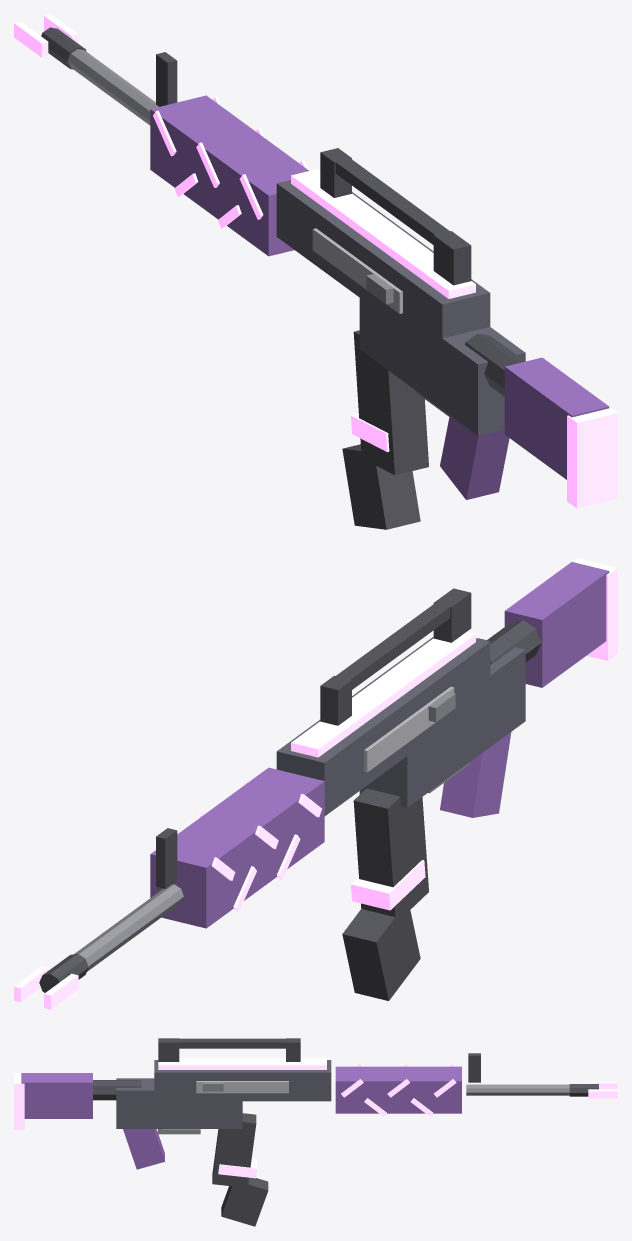
File: rifle_mythic.glb
3 renders of one model, top to bottom at view 1: azimuth 30°, elevation 25°; view 2: azimuth 150°, elevation 25°; view 3: azimuth 270°, elevation 25°, orthographic. The views are drawn at different scales.
Visible parts, largest first — view 1: StormcallerRifle; view 2: StormcallerRifle; view 3: StormcallerRifle.
Part boxes in pixels (bbox=[...]): StormcallerRifle: bbox=[14, 14, 617, 529]; StormcallerRifle: bbox=[14, 558, 617, 1009]; StormcallerRifle: bbox=[14, 1038, 617, 1226].
Bounding box in the file's own units: 0.102 × 0.4758 × 1.43.
